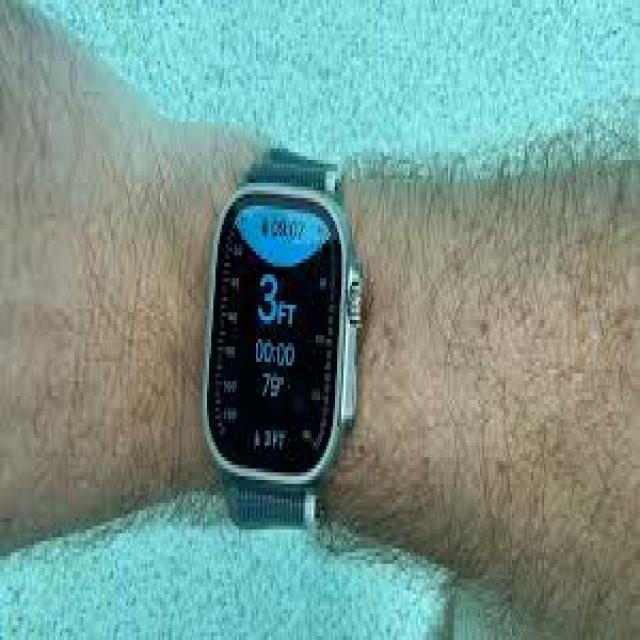objects: (200, 145, 368, 525)
